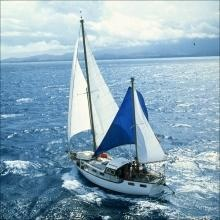fanchuan: (67, 11, 172, 198)
